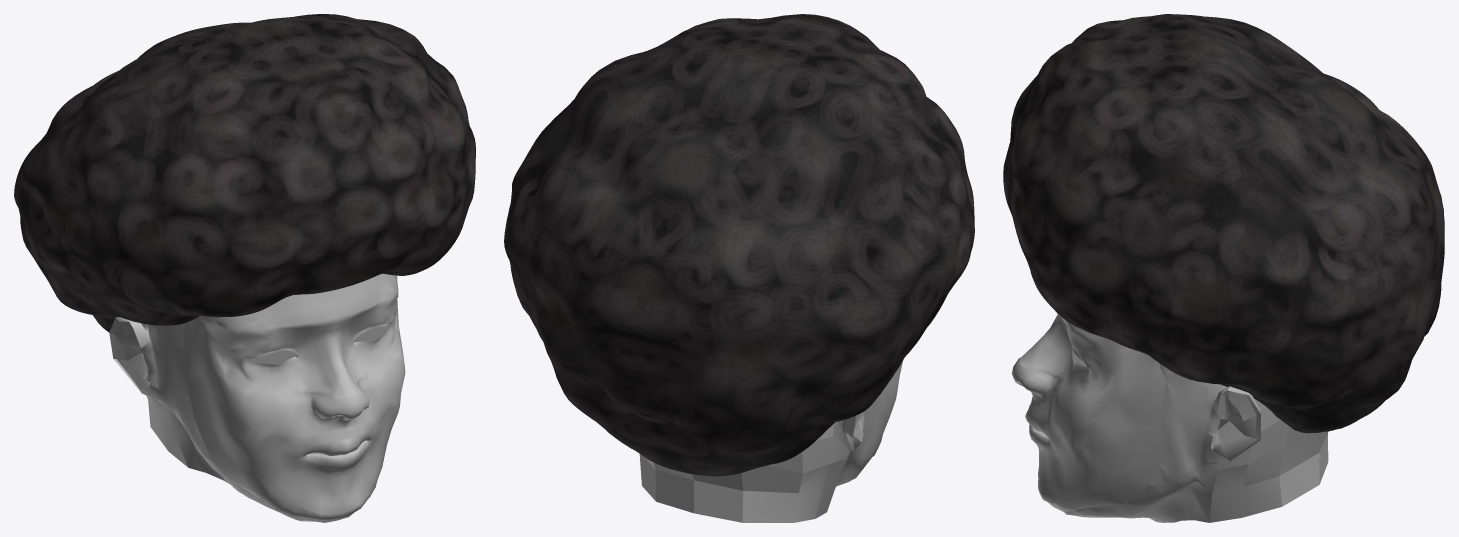
Rendered from headwear2.glb.
3 renders of one model, left to right at view 1: azimuth 30°, elevation 25°; view 2: azimuth 150°, elevation 25°; view 3: azimuth 270°, elevation 25°, orthographic. The views are drawn at different scales.
Visible parts, largest first — view 1: Afro, Occluder; view 2: Afro, Occluder; view 3: Afro, Occluder.
Boxes of the visible parts, bbox=[...] form: Afro: bbox=[14, 14, 475, 332]; Occluder: bbox=[109, 273, 405, 522]; Afro: bbox=[504, 14, 974, 476]; Occluder: bbox=[639, 362, 902, 522]; Afro: bbox=[1003, 14, 1444, 433]; Occluder: bbox=[1012, 313, 1328, 522].
Bounding box in the file's own units: 0.2902 × 0.3163 × 0.2715.
Materials: 2 (1 with a texture image).
